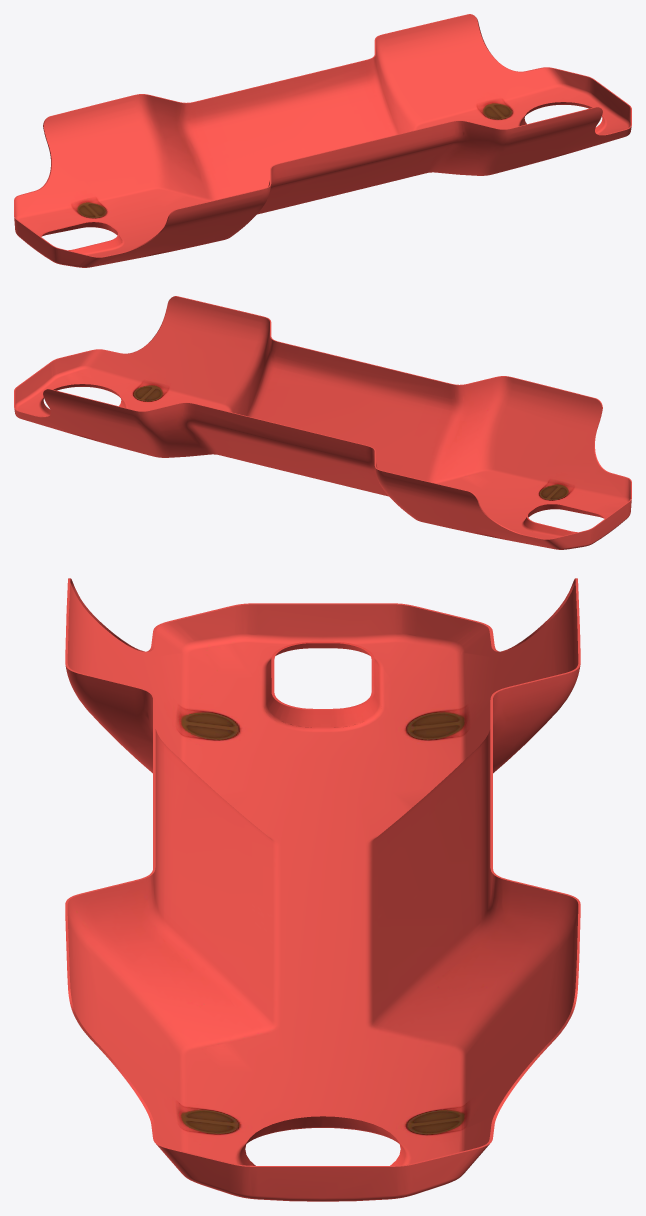
File: bottom_shell.dae
3 views of the same model, one above another, from view 1: azimuth 30°, elevation 25°; view 2: azimuth 150°, elevation 25°; view 3: azimuth 270°, elevation 25° (orthographic). The views are drawn at different scales.
Visible parts, largest first — view 1: AM3 Shell Bottom Detailed LP; view 2: AM3 Shell Bottom Detailed LP; view 3: AM3 Shell Bottom Detailed LP.
Part boxes in pixels (x1=…): AM3 Shell Bottom Detailed LP: x1=14, y1=14, x2=631, y2=267; AM3 Shell Bottom Detailed LP: x1=14, y1=296, x2=631, y2=549; AM3 Shell Bottom Detailed LP: x1=65, y1=578, x2=580, y2=1201.
Size of the model in its own units: 0.8241 by 0.3186 by 0.104.
Materials: 1 (1 with a texture image).
